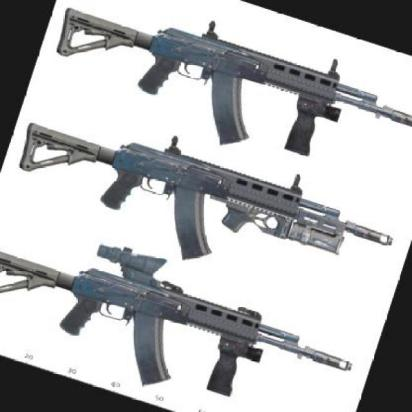Gun: (0, 97, 401, 326), (40, 0, 412, 207), (0, 206, 372, 412)
